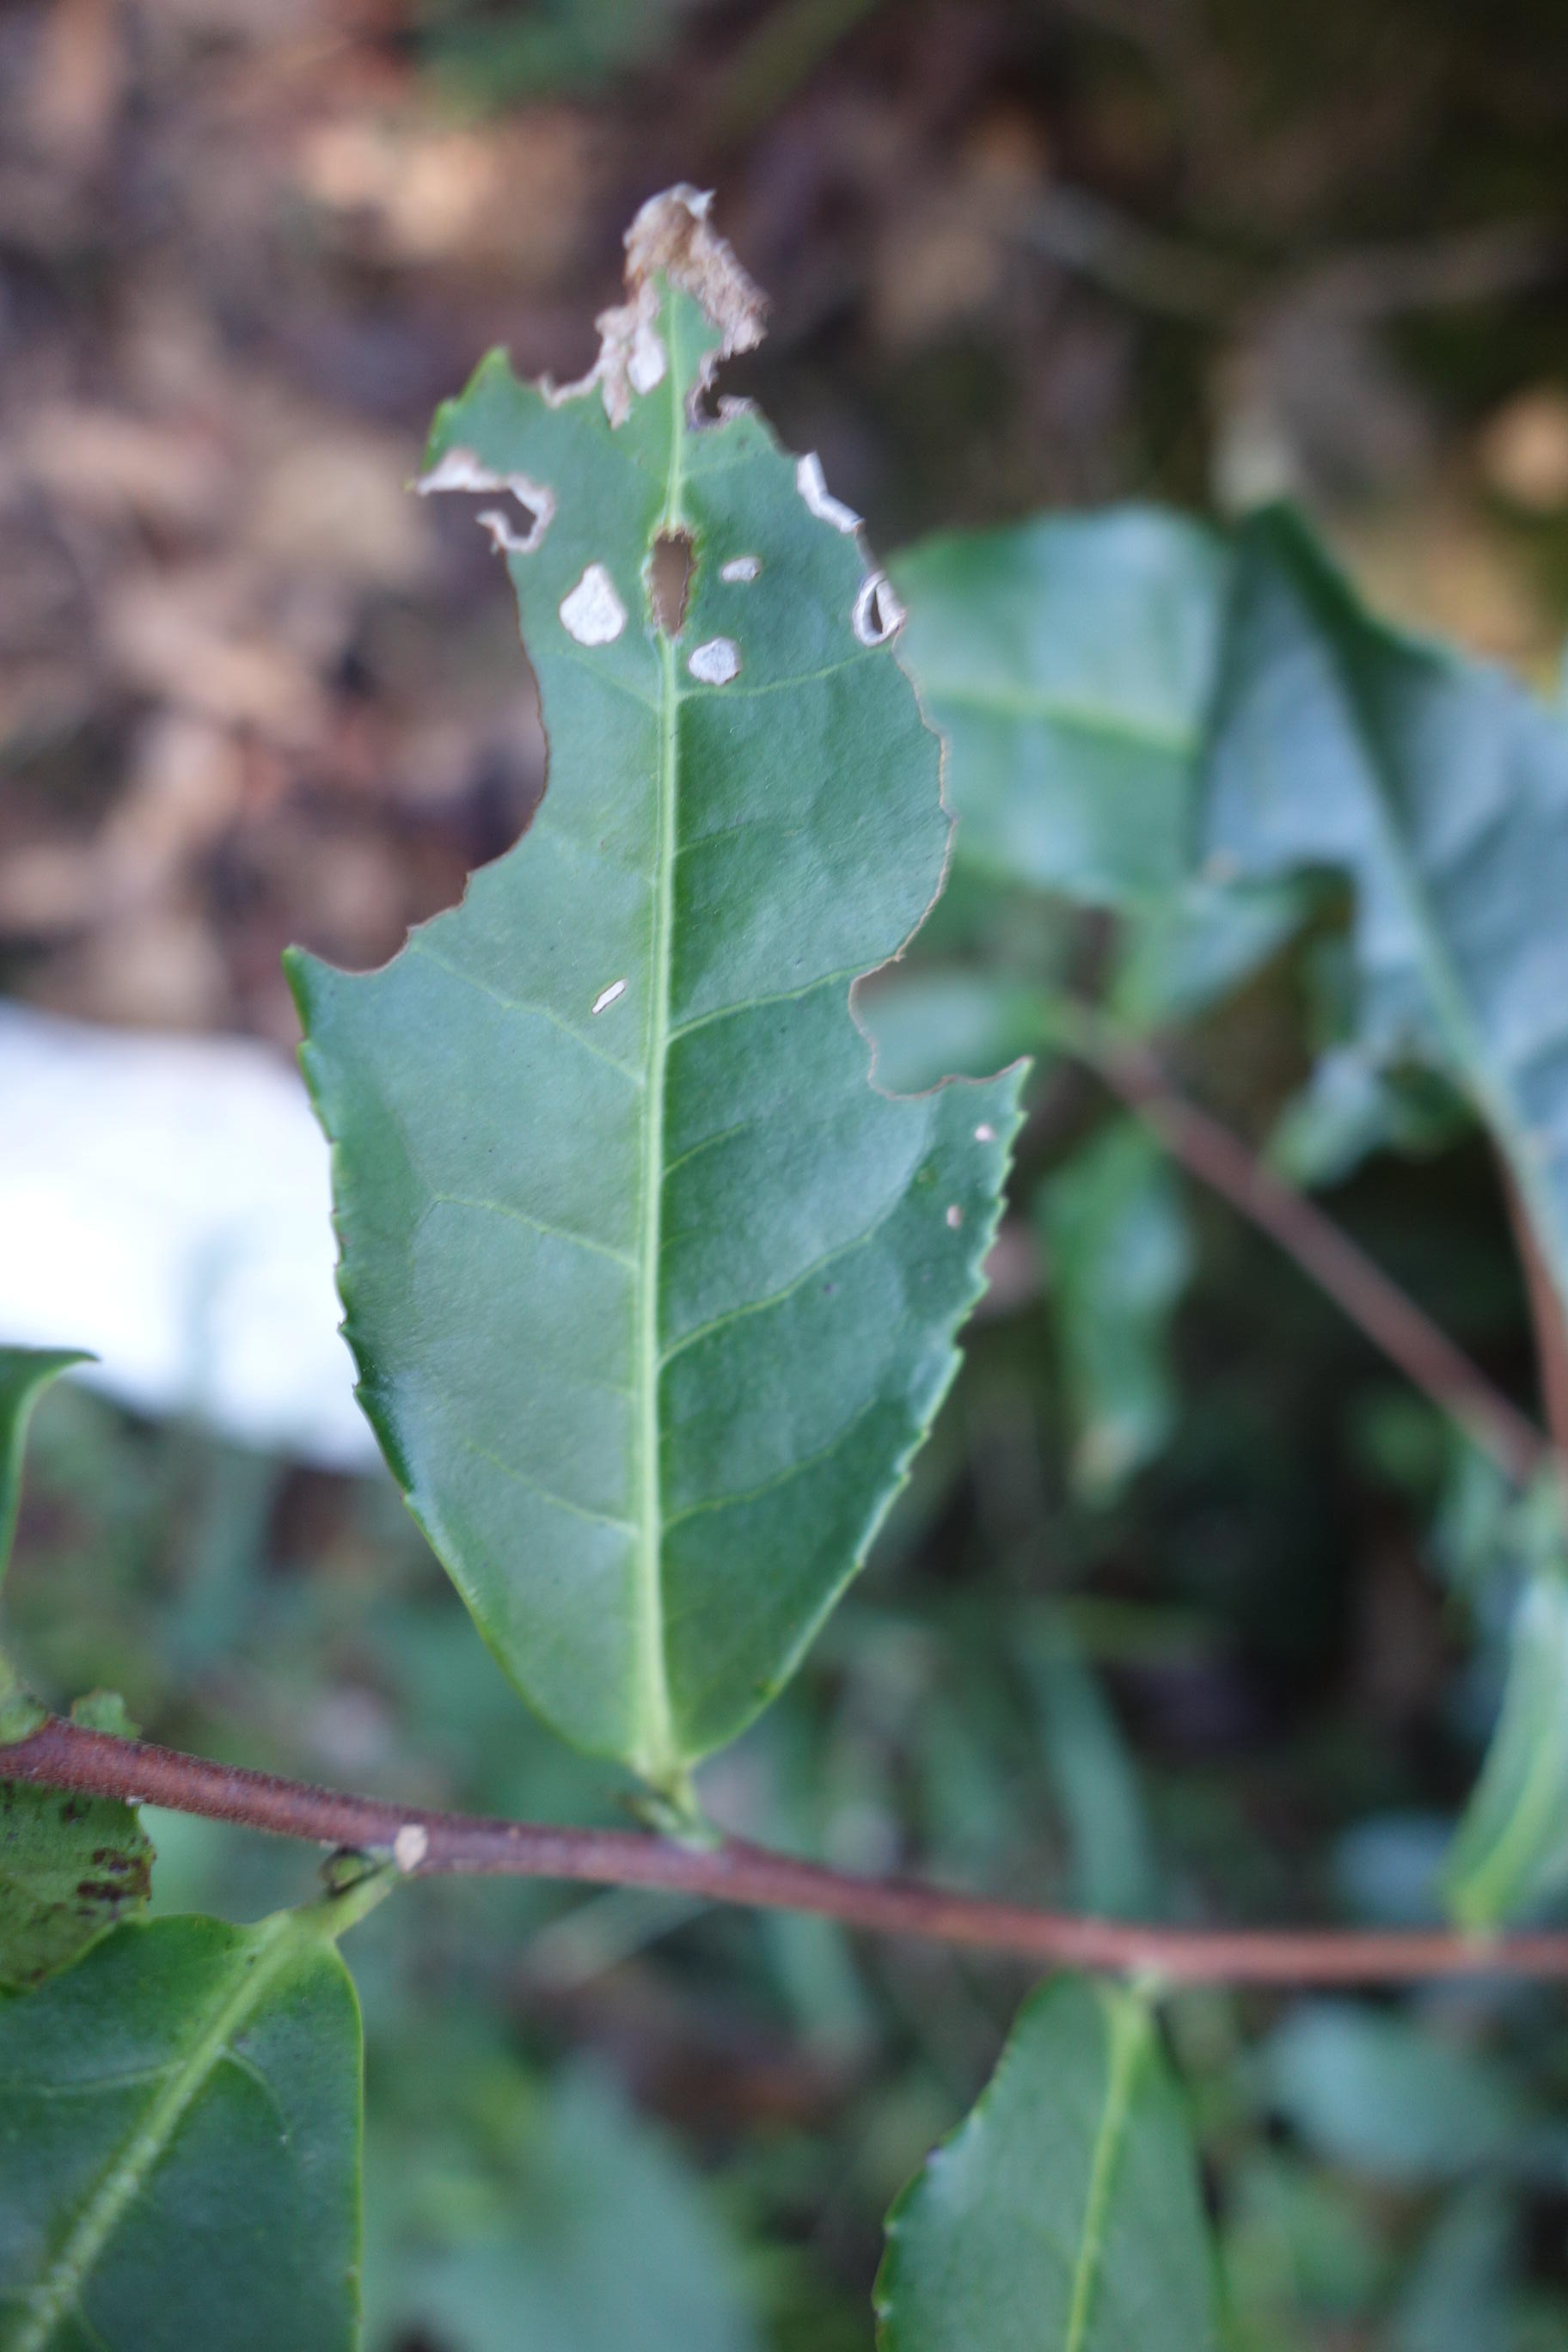chihuo_high: (275, 185, 1031, 1785)
